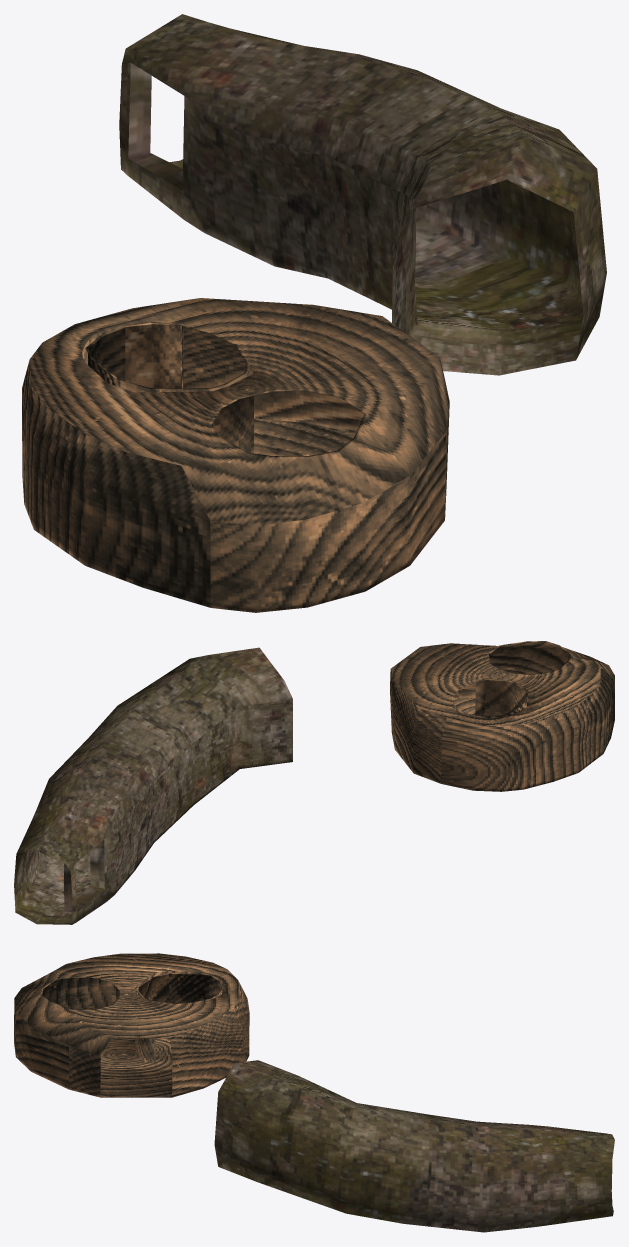
Rendered from TunnelToCity_Bark.fbx.
3 views of the same model, one above another, from view 1: azimuth 30°, elevation 25°; view 2: azimuth 150°, elevation 25°; view 3: azimuth 270°, elevation 25° (orthographic). The views are drawn at different scales.
Parts seen in each view (by area): view 1: TunnelToCity_Bark; view 2: TunnelToCity_Bark; view 3: TunnelToCity_Bark.
Boxes of the visible parts, x1=… form: TunnelToCity_Bark: x1=22, y1=14, x2=606, y2=612; TunnelToCity_Bark: x1=14, y1=641, x2=614, y2=924; TunnelToCity_Bark: x1=14, y1=953, x2=614, y2=1232.
Size of the model in its own units: 1056 by 388 by 1531.
